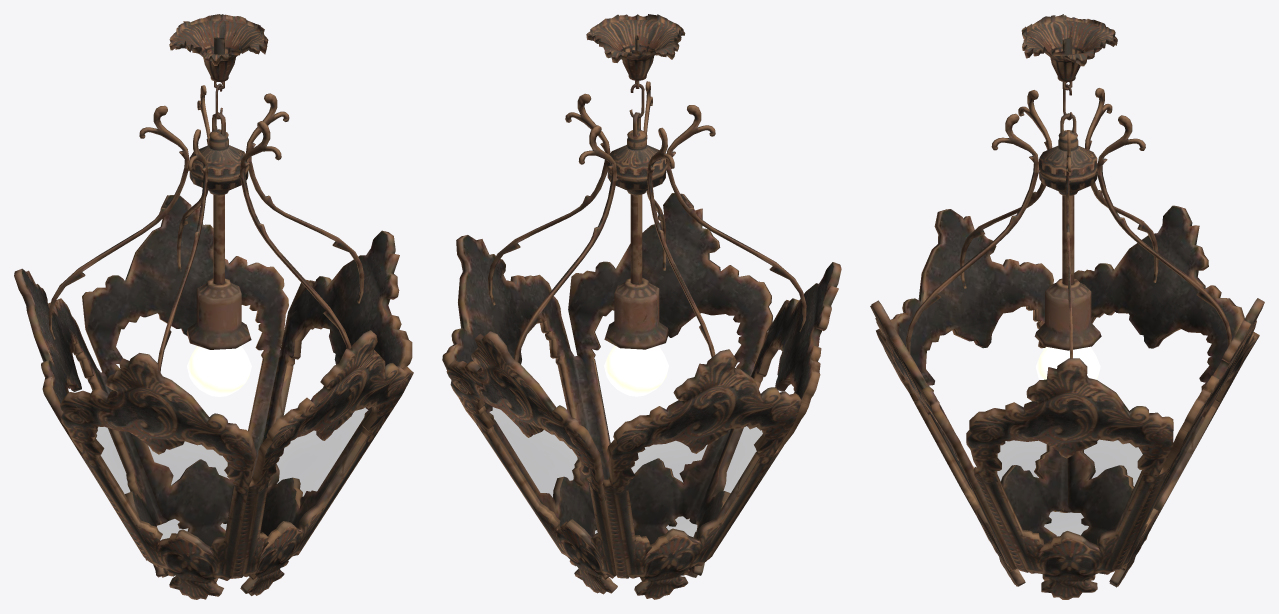
The model's file is lantern_chandelier_01.gltf.
The picture shows the model from 3 angles, left to right: view 1: azimuth 30°, elevation 25°; view 2: azimuth 150°, elevation 25°; view 3: azimuth 270°, elevation 25°; orthographic projection.
Visible parts, largest first — view 1: lantern_chandelier_01; view 2: lantern_chandelier_01; view 3: lantern_chandelier_01.
Boxes of the visible parts, x1=… form: lantern_chandelier_01: x1=14, y1=14, x2=413, y2=599; lantern_chandelier_01: x1=442, y1=14, x2=841, y2=599; lantern_chandelier_01: x1=870, y1=14, x2=1264, y2=599.
Bounding box in the file's own units: 0.5792 × 0.8776 × 0.5746.
Materials: 3 (2 with a texture image).
